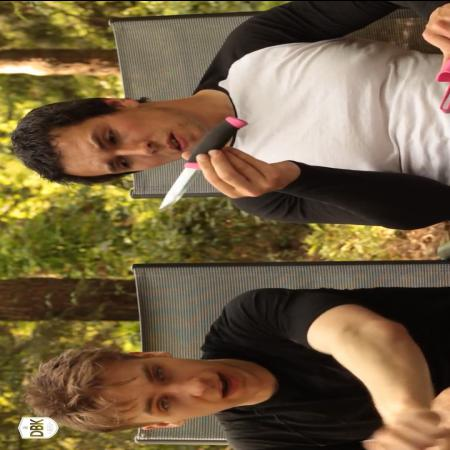long weapon: (148, 113, 260, 213)
